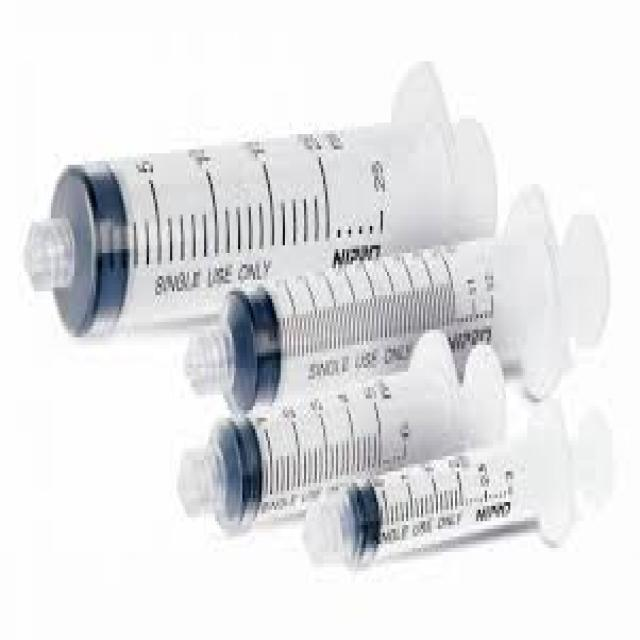syringe: (37, 106, 640, 579)
